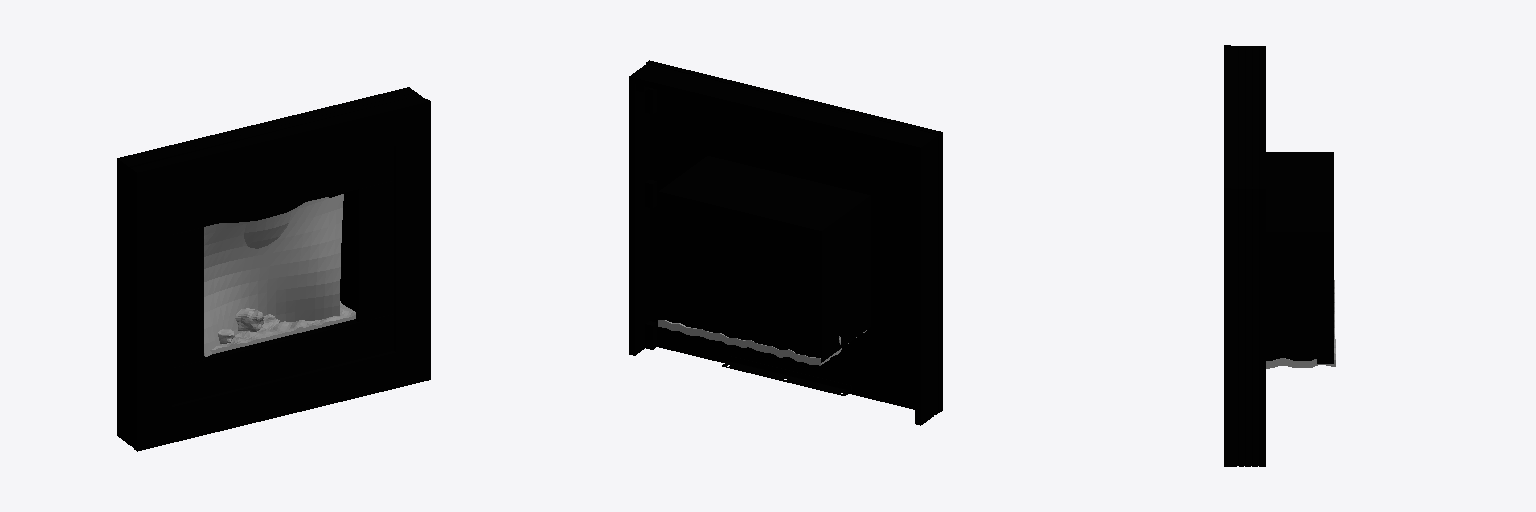
The model's file is Redway.obj.
3 renders of one model, left to right at view 1: azimuth 30°, elevation 25°; view 2: azimuth 150°, elevation 25°; view 3: azimuth 270°, elevation 25°, orthographic.
Visible parts, largest first — view 1: ____MSBR75, Plane10, ____MSBR89, ____MSBR76, ____MSBR91, ____MSBR94, ____MSBR92, ____MSBR90, Box01, Plane33, Plane34, Box26 (+1 smaller); view 2: Box01, ____MSBR72, ____MSBR92, ____MSBR94, ____MSBR93, ____MSBR75, ____MSBR105, Plane33; view 3: Box01, ____MSBR93, ____MSBR92, ____MSBR75.
Part boxes in pixels (x1,y1,x2,y2): ____MSBR75: (134,99,430,451); Plane10: (204,194,343,356); ____MSBR89: (172,314,393,404); ____MSBR76: (172,146,393,234); ____MSBR91: (358,181,393,321); ____MSBR94: (117,158,133,447); ____MSBR92: (118,87,424,169); ____MSBR90: (172,227,203,367); Box01: (204,190,355,356); Plane33: (204,301,355,355); Plane34: (204,197,328,248); Box26: (235,308,263,331); Box01: (659,154,870,362); ____MSBR72: (650,90,914,409); ____MSBR92: (629,64,937,151); ____MSBR94: (915,136,937,425); ____MSBR93: (629,66,649,355); ____MSBR75: (646,60,942,412); ____MSBR105: (722,356,851,395); Plane33: (658,320,866,365); Box01: (1266,152,1333,363); ____MSBR93: (1231,189,1265,466); ____MSBR92: (1231,46,1265,188); ____MSBR75: (1224,45,1230,466).
Bounding box in the file's own units: 29.92 × 27.17 × 9.85.